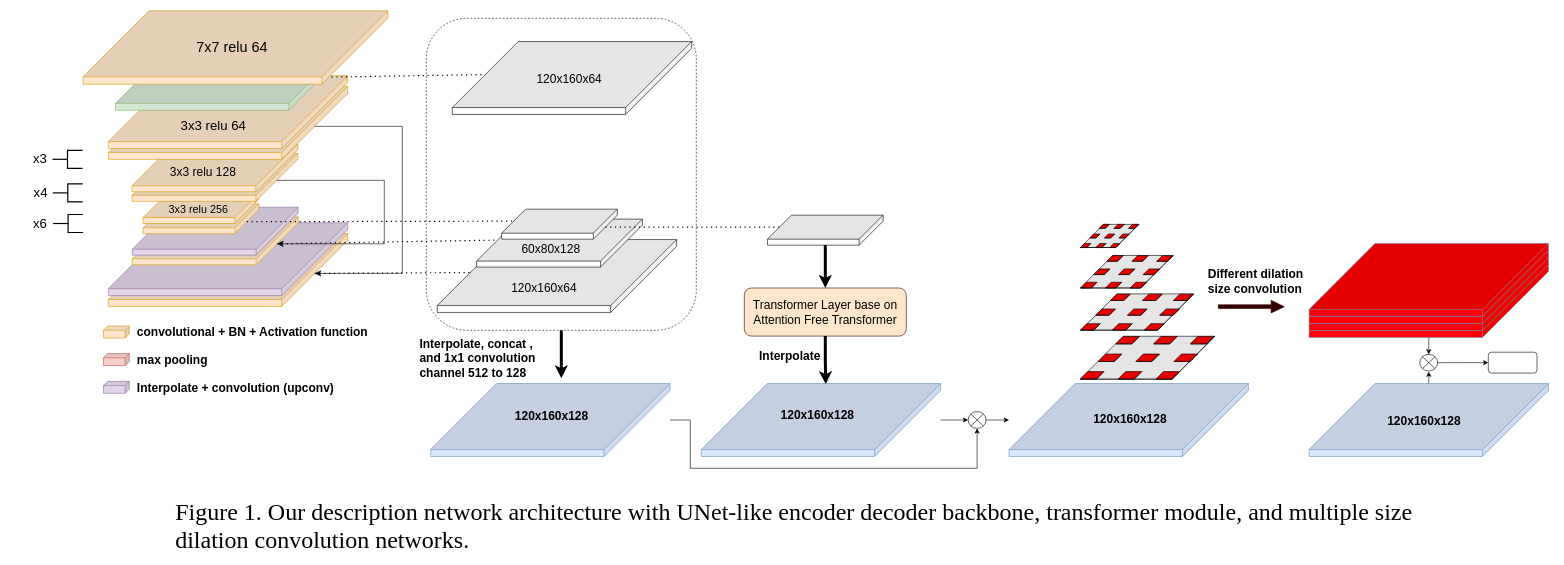
This 1564x565 diagram has some shape labels left out. Each missing label, with the centre of its shape:
"30x40x256" goes at point (559, 224).
"Result" goes at point (1512, 362).
